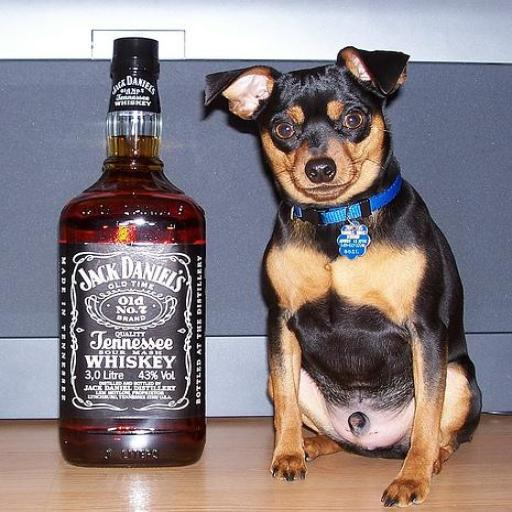dog_face: (208, 47, 414, 207)
